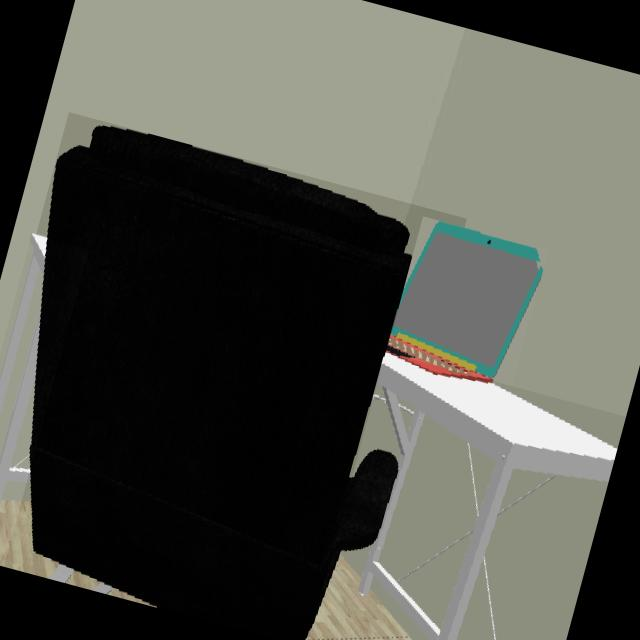chair: (28, 125, 412, 640)
laptop: (386, 221, 543, 384)
table: (357, 353, 617, 640), (0, 235, 45, 418), (0, 321, 37, 502)
